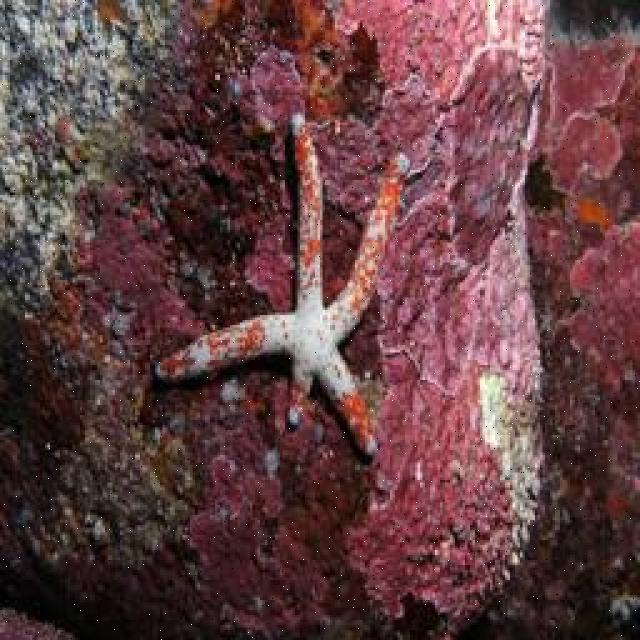reefs: (154, 107, 408, 454)
